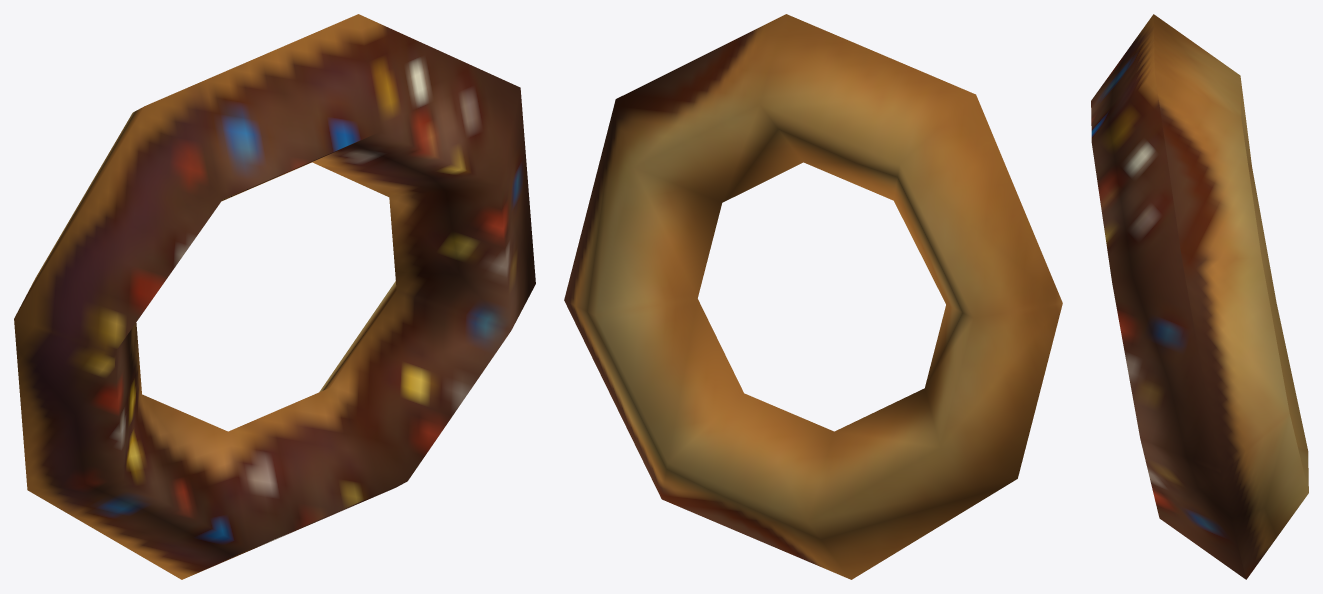
Rendered from Wpn_TianTianQuan.FBX.
The picture shows the model from 3 angles, left to right: view 1: azimuth 30°, elevation 25°; view 2: azimuth 150°, elevation 25°; view 3: azimuth 270°, elevation 25°; orthographic projection. The views are drawn at different scales.
Parts seen in each view (by area): view 1: Wpn_TianTianQuan; view 2: Wpn_TianTianQuan; view 3: Wpn_TianTianQuan.
Part boxes in pixels (bbox=[...]): Wpn_TianTianQuan: bbox=[14, 14, 535, 579]; Wpn_TianTianQuan: bbox=[564, 14, 1062, 579]; Wpn_TianTianQuan: bbox=[1091, 14, 1308, 579].
Bounding box in the file's own units: 0.87 × 0.8765 × 0.3428.
